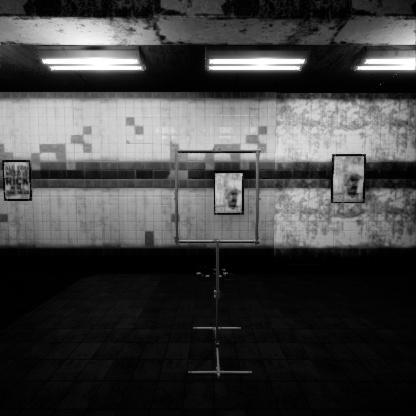gate: (175, 171, 268, 267)
